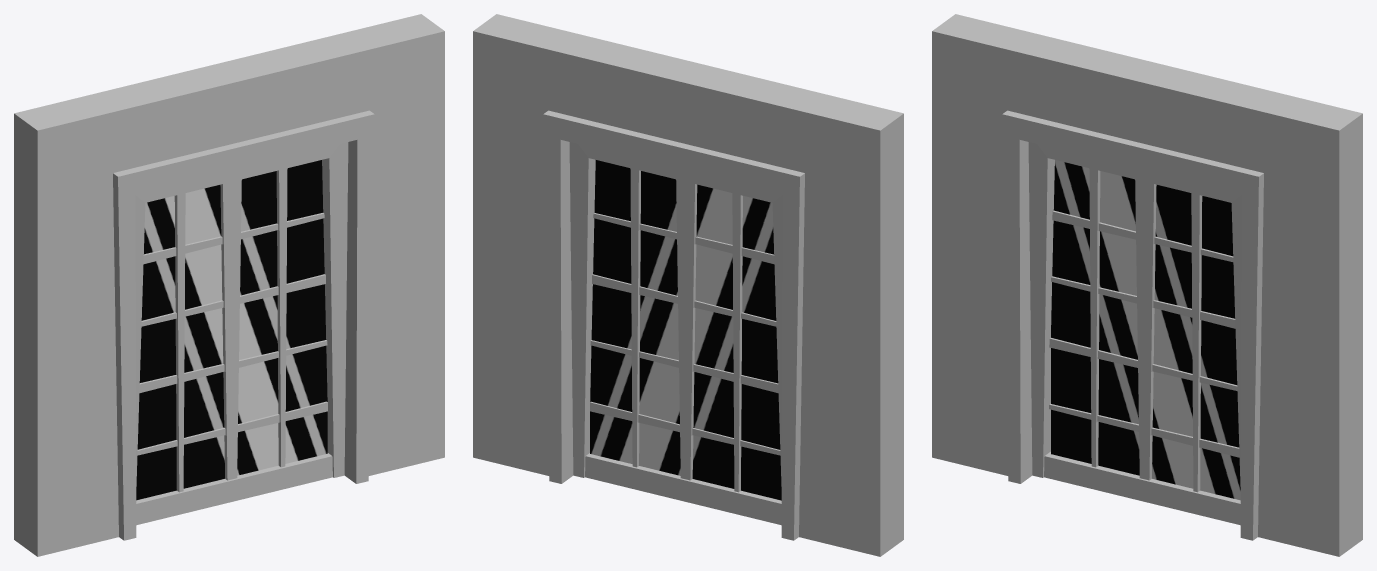
File: window01.fbx
3 views of the same model, side by side, from view 1: azimuth 30°, elevation 25°; view 2: azimuth 150°, elevation 25°; view 3: azimuth 330°, elevation 25° (orthographic).
Parts seen in each view (by area): view 1: window01; view 2: window01; view 3: window01.
Boxes of the visible parts, bbox=[...] form: window01: bbox=[14, 14, 444, 556]; window01: bbox=[473, 14, 903, 556]; window01: bbox=[932, 14, 1362, 556].
Size of the model in its own units: 400 by 400 by 57.25.
